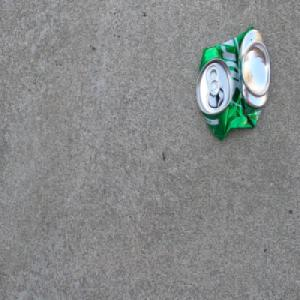SodaCan: (194, 24, 270, 143)
